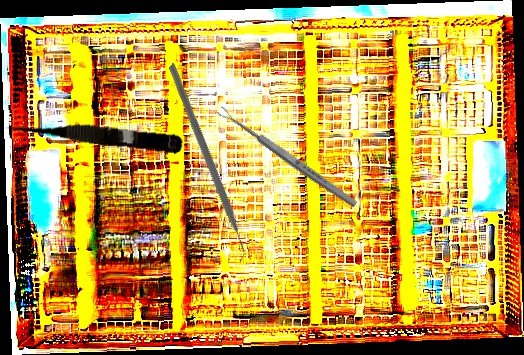Chopper: (96, 62, 312, 270)
Micro Scissor: (3, 112, 185, 155)
Surgical Spoon: (216, 104, 359, 210)
